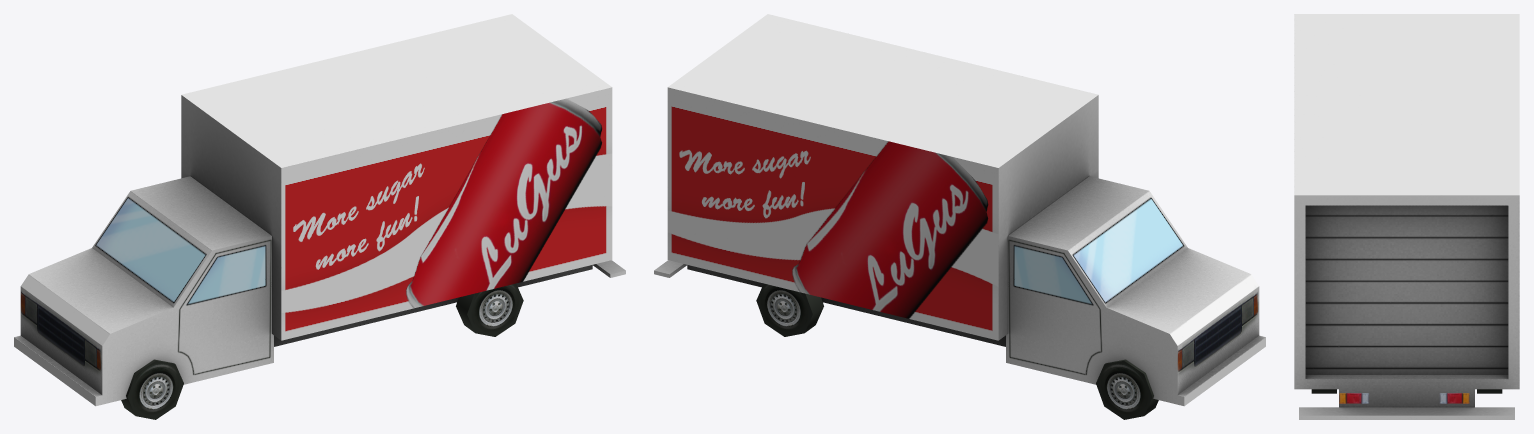
Rendered from Vehicle_Truck.FBX.
3 views of the same model, side by side, from view 1: azimuth 30°, elevation 25°; view 2: azimuth 150°, elevation 25°; view 3: azimuth 270°, elevation 25° (orthographic). The views are drawn at different scales.
Visible parts, largest first — view 1: OBJ_Truck; view 2: OBJ_Truck; view 3: OBJ_Truck.
Part boxes in pixels (x1,y1,x2,y2): OBJ_Truck: (14,14,625,419); OBJ_Truck: (654,14,1265,419); OBJ_Truck: (1294,14,1519,419).
Bounding box in the file's own units: 16.04 × 6.7 × 5.32.
